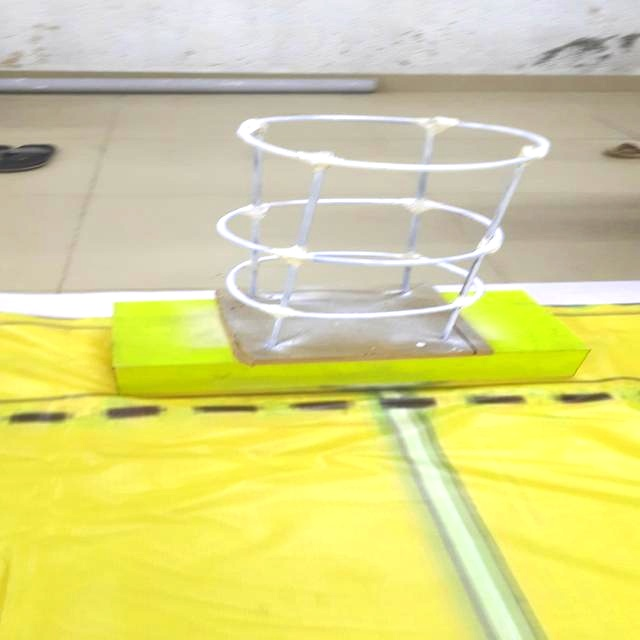silo: (208, 103, 558, 377)
